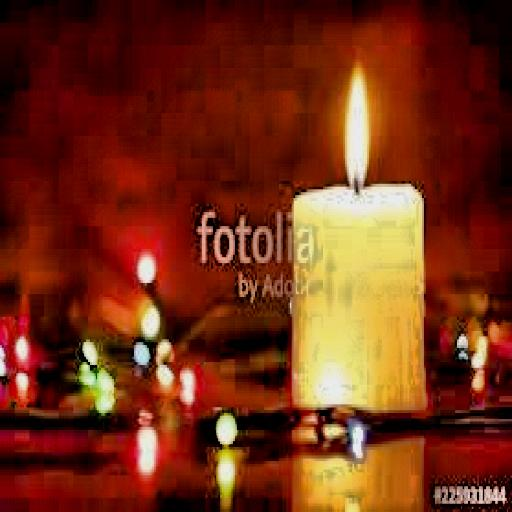fire: (334, 57, 376, 181)
